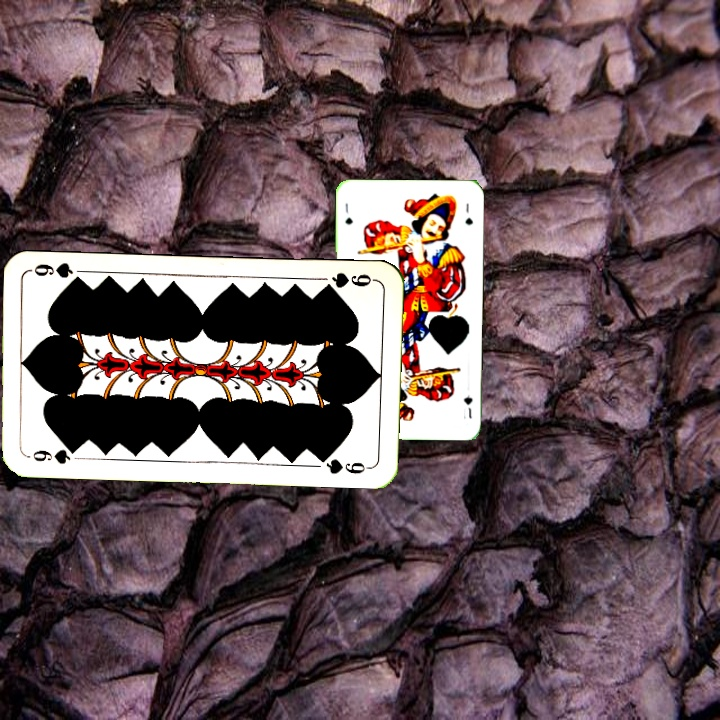G9: (318, 268, 378, 293), (22, 443, 82, 467)
GU: (460, 391, 475, 421), (341, 199, 355, 227)
